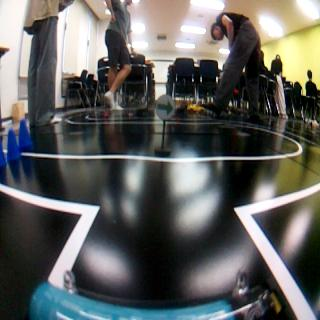right: (157, 94, 175, 119)
